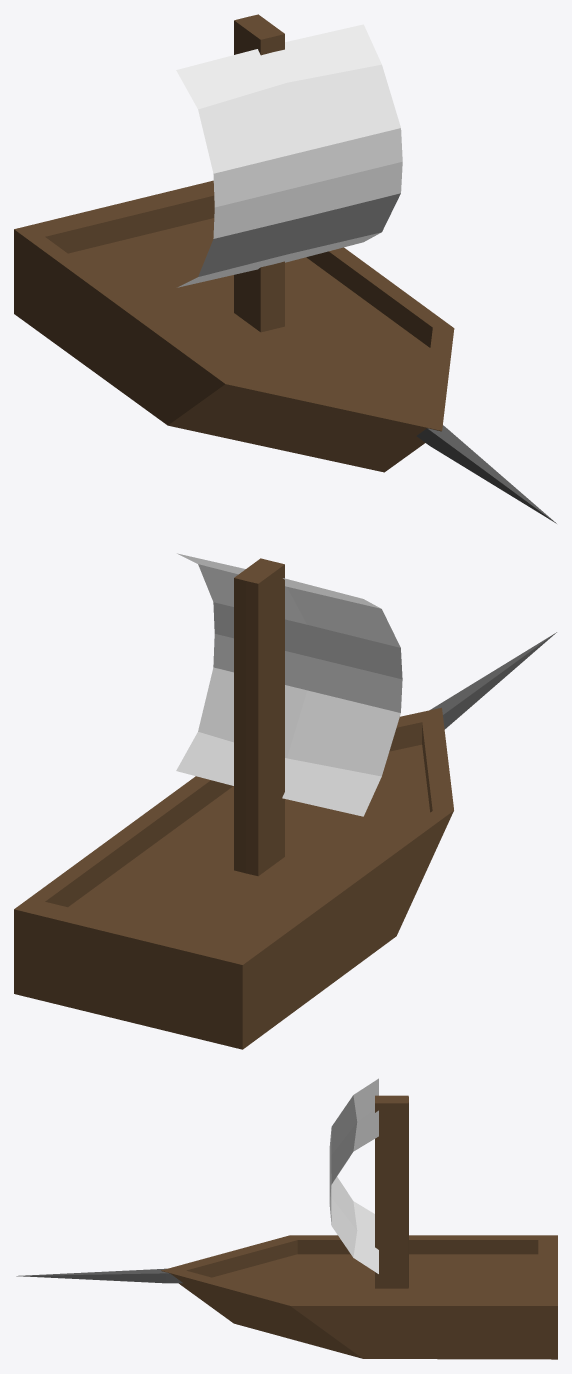
Rendered from spearship2.glb.
3 renders of one model, top to bottom at view 1: azimuth 30°, elevation 25°; view 2: azimuth 150°, elevation 25°; view 3: azimuth 270°, elevation 25°, orthographic. The views are drawn at different scales.
Parts seen in each view (by area): view 1: Plane.001; view 2: Plane.001; view 3: Plane.001.
Boxes of the visible parts, <box> form: Plane.001: <box>14,14,556,523</box>; Plane.001: <box>14,553,556,1049</box>; Plane.001: <box>16,1078,557,1359</box>.
Bounding box in the file's own units: 7.46 × 11.05 × 24.25.
